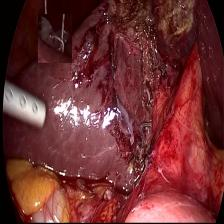Irrigator: (4, 80, 50, 140)
Specimen Bag: (38, 14, 72, 63)
